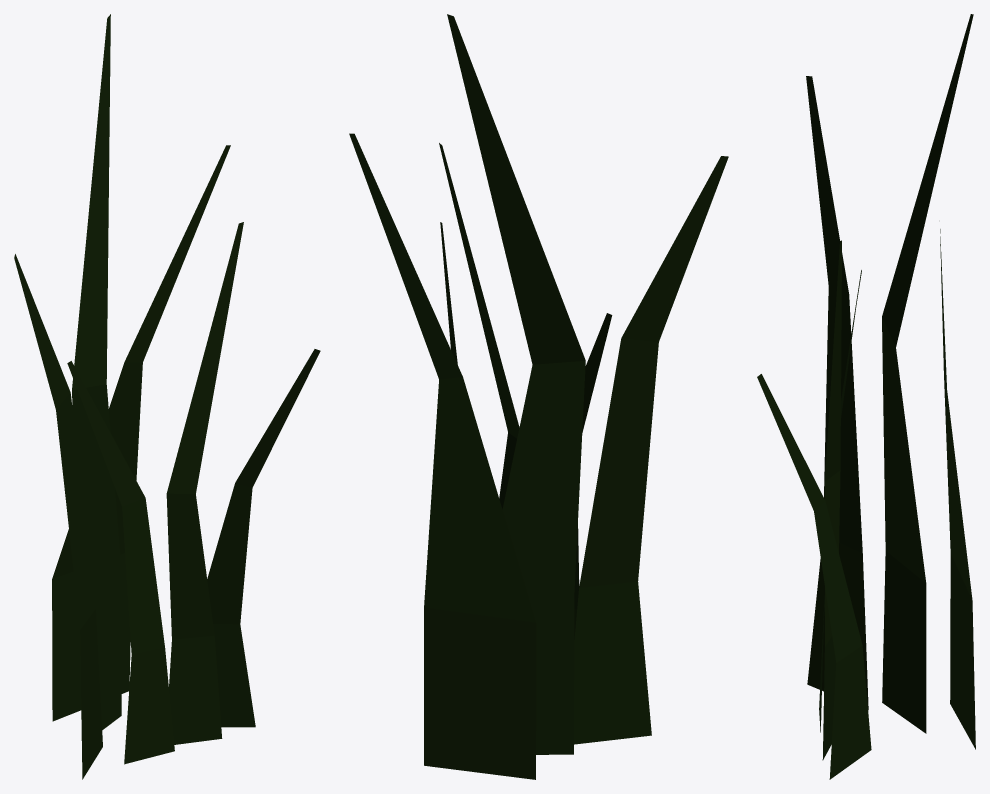
Rendered from HIERBAJO_1.fbx.
3 views of the same model, side by side, from view 1: azimuth 30°, elevation 25°; view 2: azimuth 150°, elevation 25°; view 3: azimuth 270°, elevation 25° (orthographic). The views are drawn at different scales.
Visible parts, largest first — view 1: HIERBAJOS_1; view 2: HIERBAJOS_1; view 3: HIERBAJOS_1.
Part boxes in pixels (x1=…): HIERBAJOS_1: x1=14, y1=14, x2=320, y2=779; HIERBAJOS_1: x1=349, y1=14, x2=728, y2=779; HIERBAJOS_1: x1=757, y1=14, x2=975, y2=779.
Bounding box in the file's own units: 20.26 × 46.61 × 12.75.
